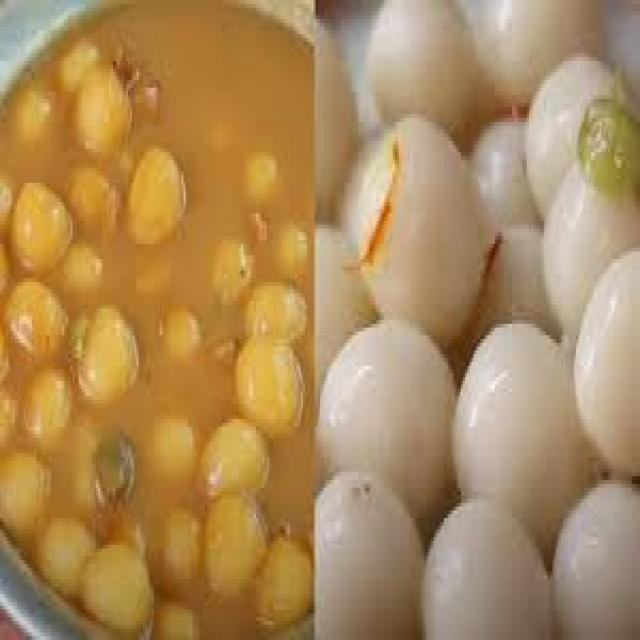paal kolukattai: (1, 0, 332, 636)
